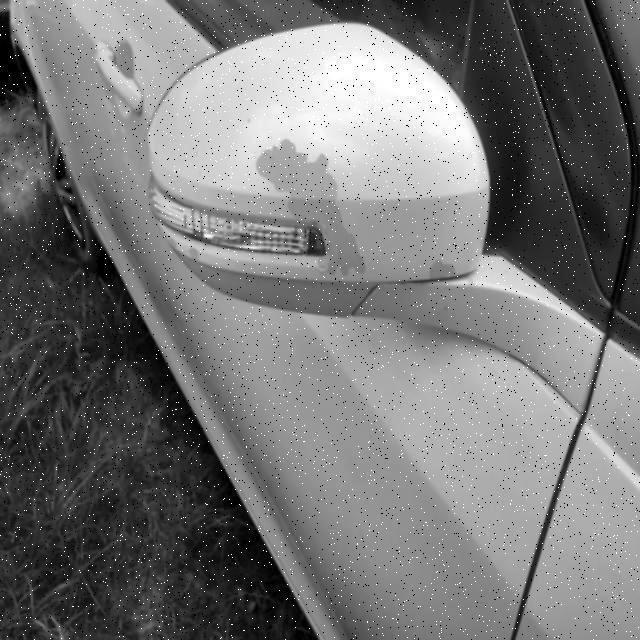Sidemirror-Damage: (146, 12, 503, 348)
